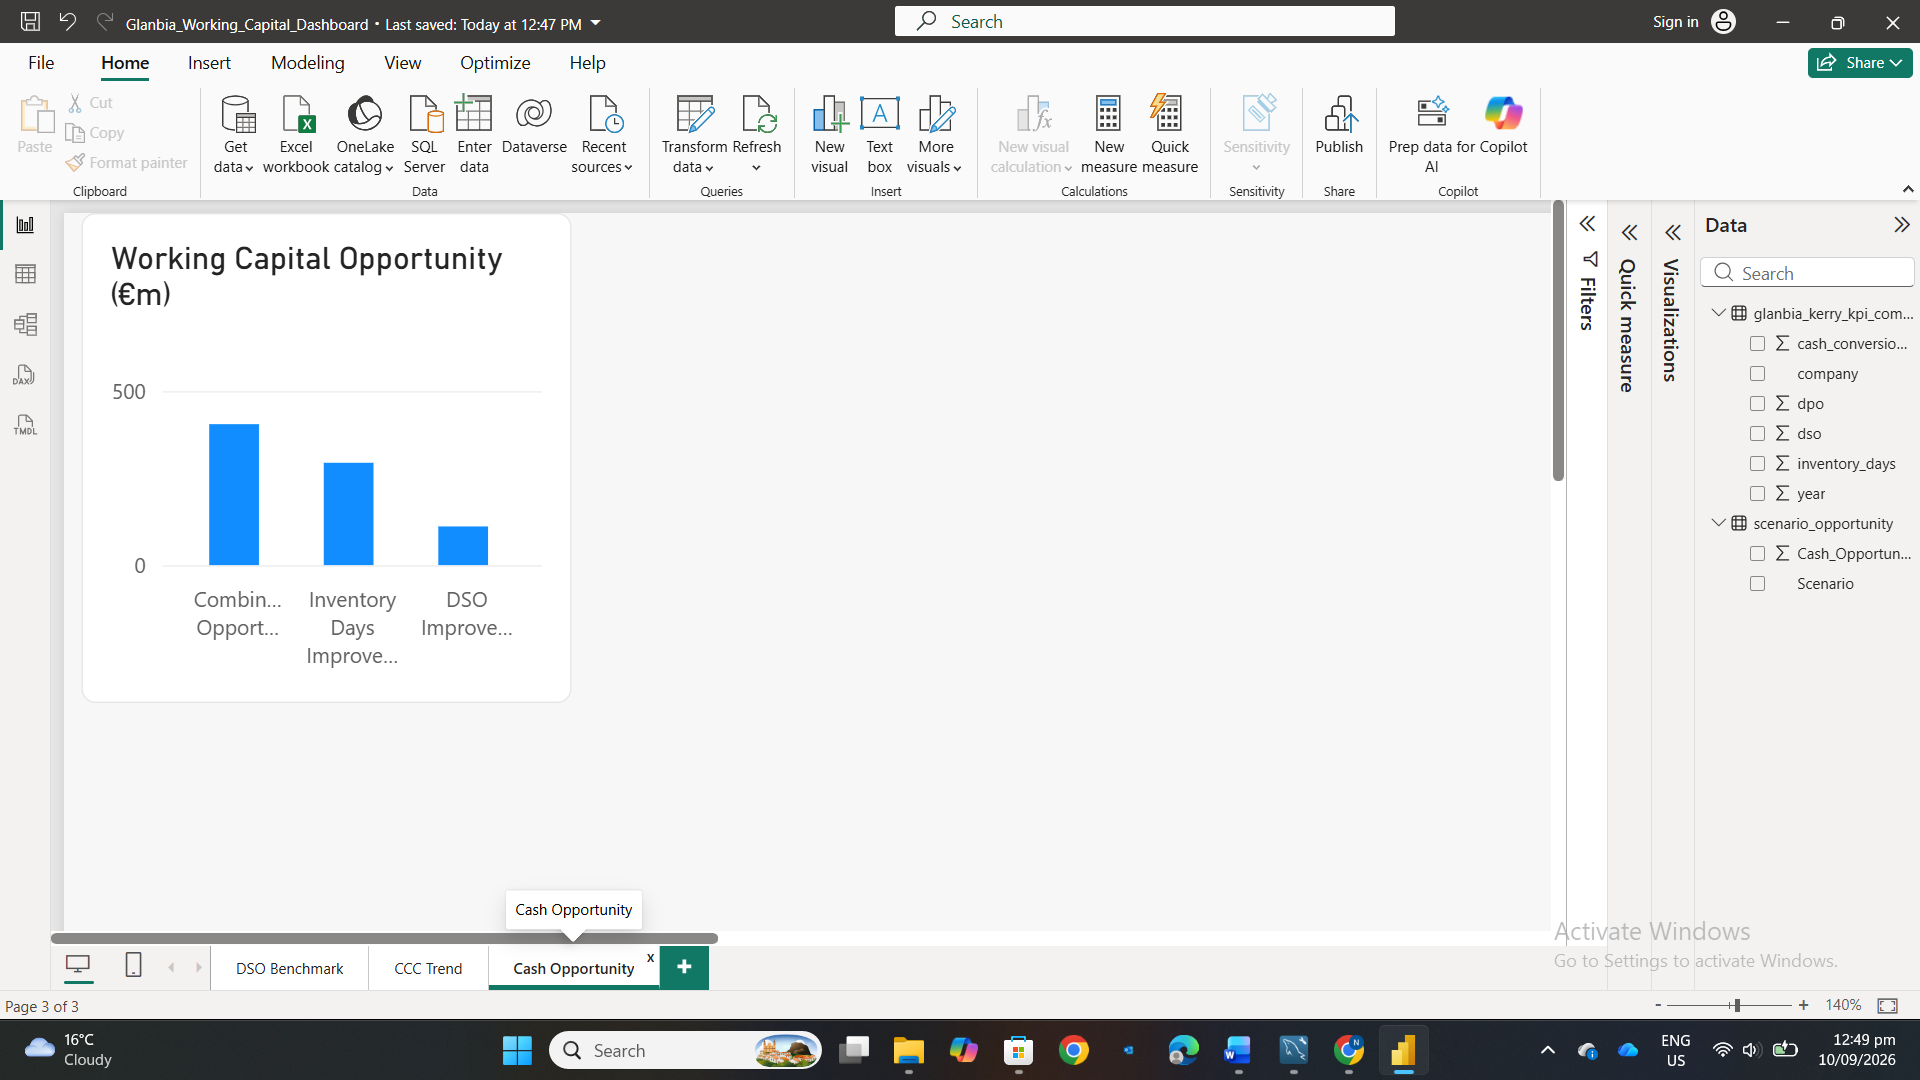

What the dashboard file says about the page in this screenshot:
{"tool":"powerbi","page":{"name":"Cash Opportunity","canvas":[1920,1080],"ordinal":2},"visuals":[{"type":"clusteredColumnChart","title":"Working Capital Opportunity (€m)","fields":{"Category":["scenario_opportunity.Scenario"],"Y":["Sum(scenario_opportunity.Cash_Opportunity)"]},"box":[10,0,280,280],"z":0}]}

Visuals, with their boxes on the page's 1920x1080 design canvas (x1, y1, x2, y2). These are canvas units, not pixel positions in the 1920x1080 screenshot, which may show the page scaled, cropped or inside an application window:
"Working Capital Opportunity (€m)" clusteredColumnChart: BBox(10, 0, 290, 280)
